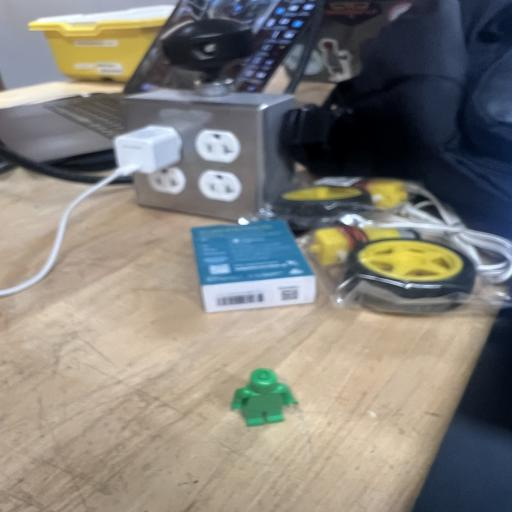green-lego-minifigure-detector: (232, 368, 297, 426)
